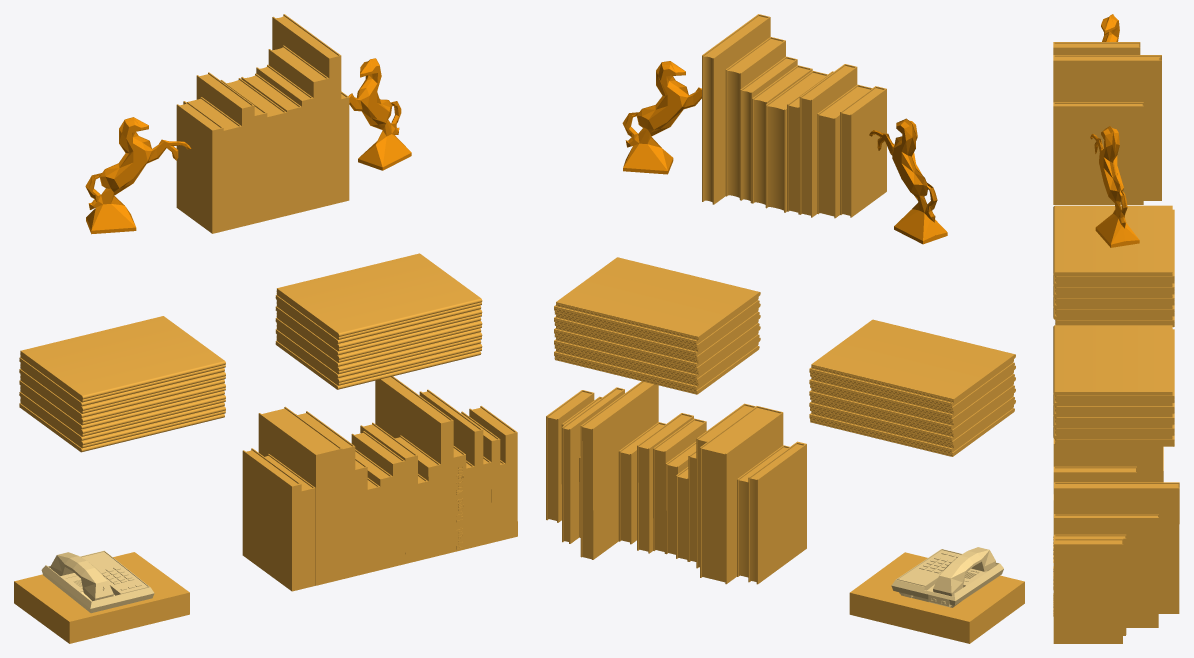
The model's file is TamilArchive_ItemsonShelf.glb.
3 renders of one model, left to right at view 1: azimuth 30°, elevation 25°; view 2: azimuth 150°, elevation 25°; view 3: azimuth 270°, elevation 25°, orthographic. The views are drawn at different scales.
Visible parts, largest first — view 1: TamilArchive_Books, TamilArchive_Horse, TamilArchive_Phone; view 2: TamilArchive_Books, TamilArchive_Horse, TamilArchive_Phone; view 3: TamilArchive_Books, TamilArchive_Horse.
Part boxes in pixels (box(x1,y1,x2,y2)): TamilArchive_Books: box(14, 14, 517, 643); TamilArchive_Horse: box(85, 58, 411, 234); TamilArchive_Phone: box(41, 550, 154, 613); TamilArchive_Books: box(546, 14, 1024, 643); TamilArchive_Horse: box(622, 61, 947, 244); TamilArchive_Phone: box(891, 547, 1003, 607); TamilArchive_Books: box(1053, 42, 1179, 643); TamilArchive_Horse: box(1090, 14, 1139, 247).
Bounding box in the file's own units: 43.43 × 48.75 × 11.13.
